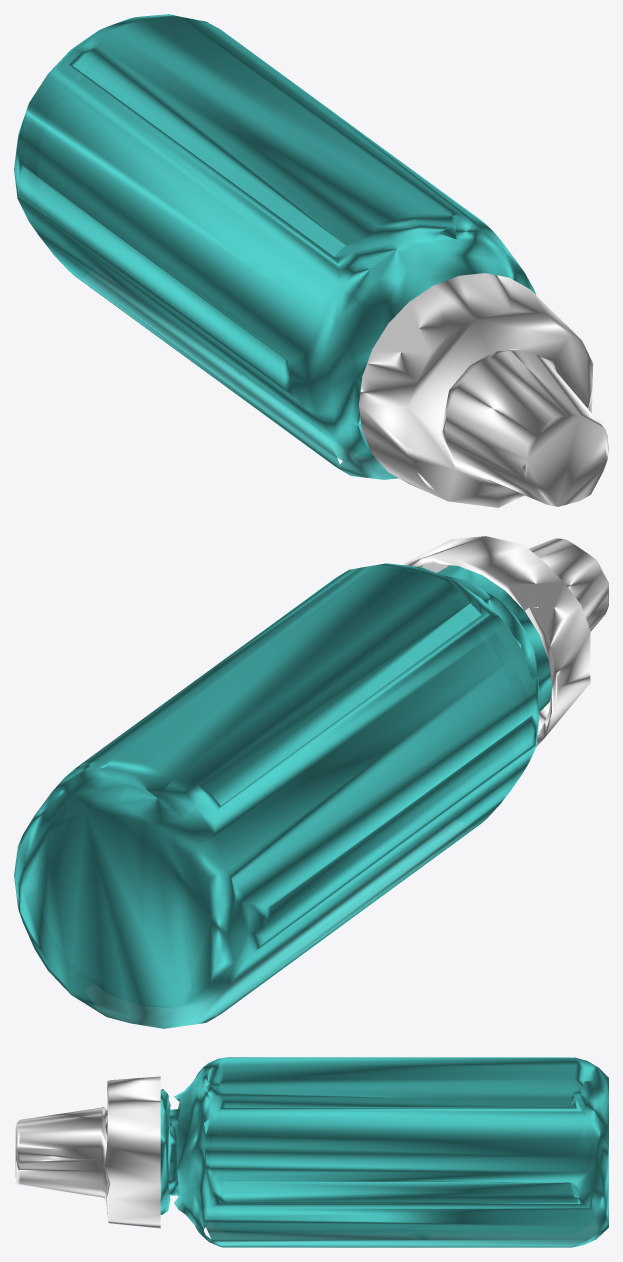
File: model_align.obj
3 views of the same model, one above another, from view 1: azimuth 30°, elevation 25°; view 2: azimuth 150°, elevation 25°; view 3: azimuth 270°, elevation 25° (orthographic). The views are drawn at different scales.
Size of the model in its own units: 0.05 by 0.0483 by 0.1558.
